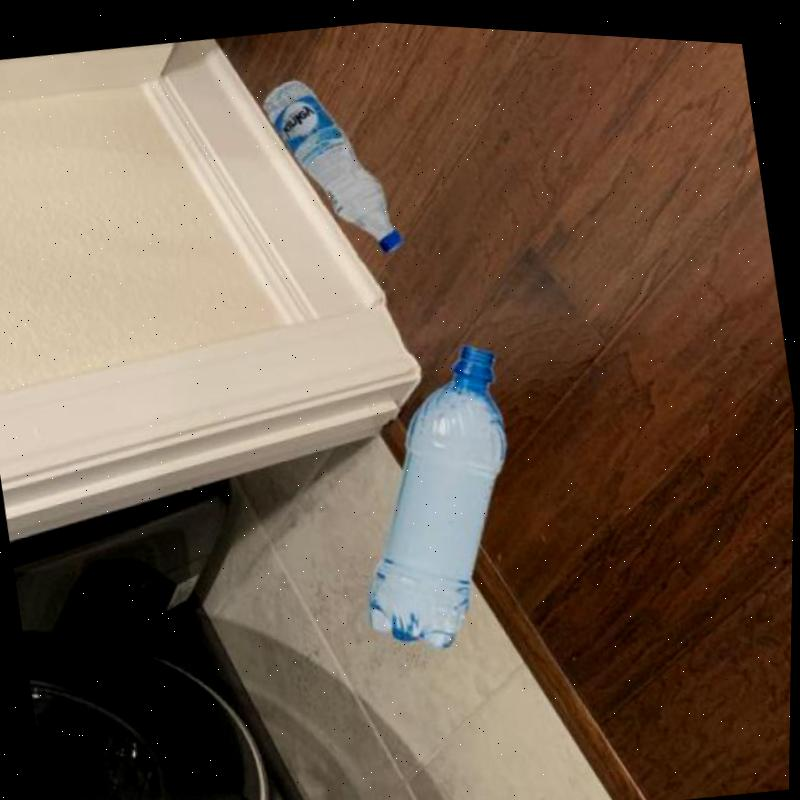botella: (325, 326, 539, 656), (256, 60, 409, 266)
